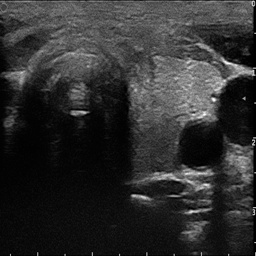mass: (152, 55, 220, 120)
